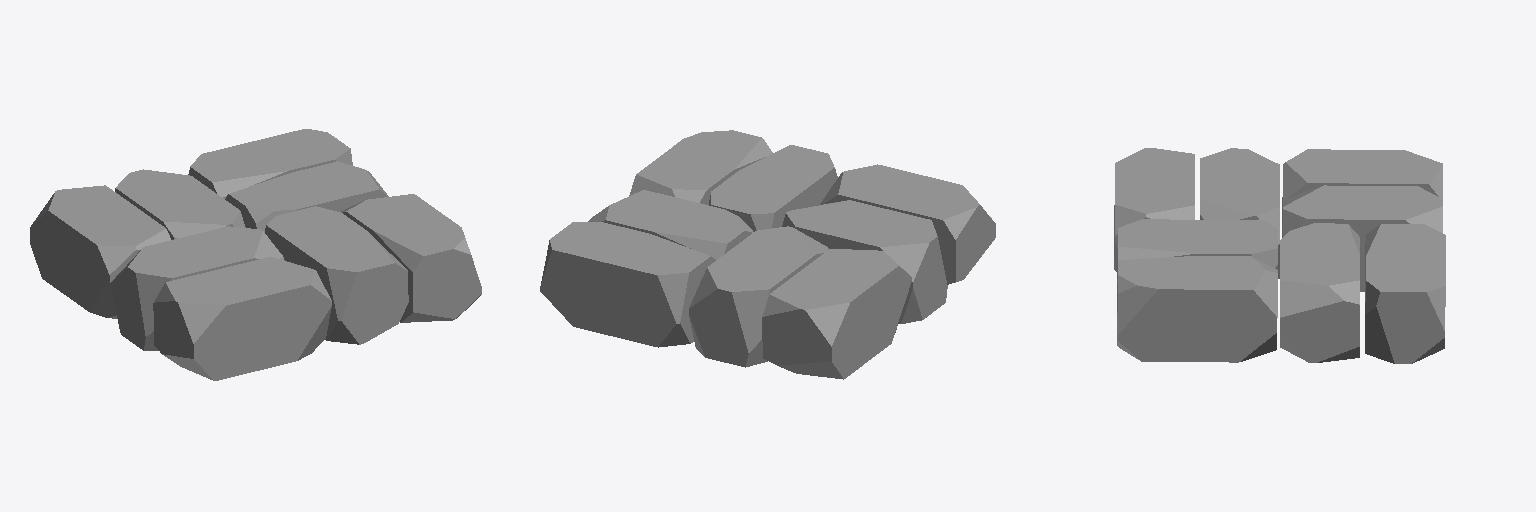
Rendered from Road.obj.
3 views of the same model, side by side, from view 1: azimuth 30°, elevation 25°; view 2: azimuth 150°, elevation 25°; view 3: azimuth 270°, elevation 25° (orthographic).
Visible parts, largest first — view 1: object_8; view 2: object_8; view 3: object_8.
Boxes of the visible parts, x1=… form: object_8: x1=30, y1=129, x2=481, y2=380; object_8: x1=540, y1=130, x2=995, y2=379; object_8: x1=1114, y1=148, x2=1445, y2=363.
Size of the model in its own units: 1.67 by 0.4195 by 1.66.